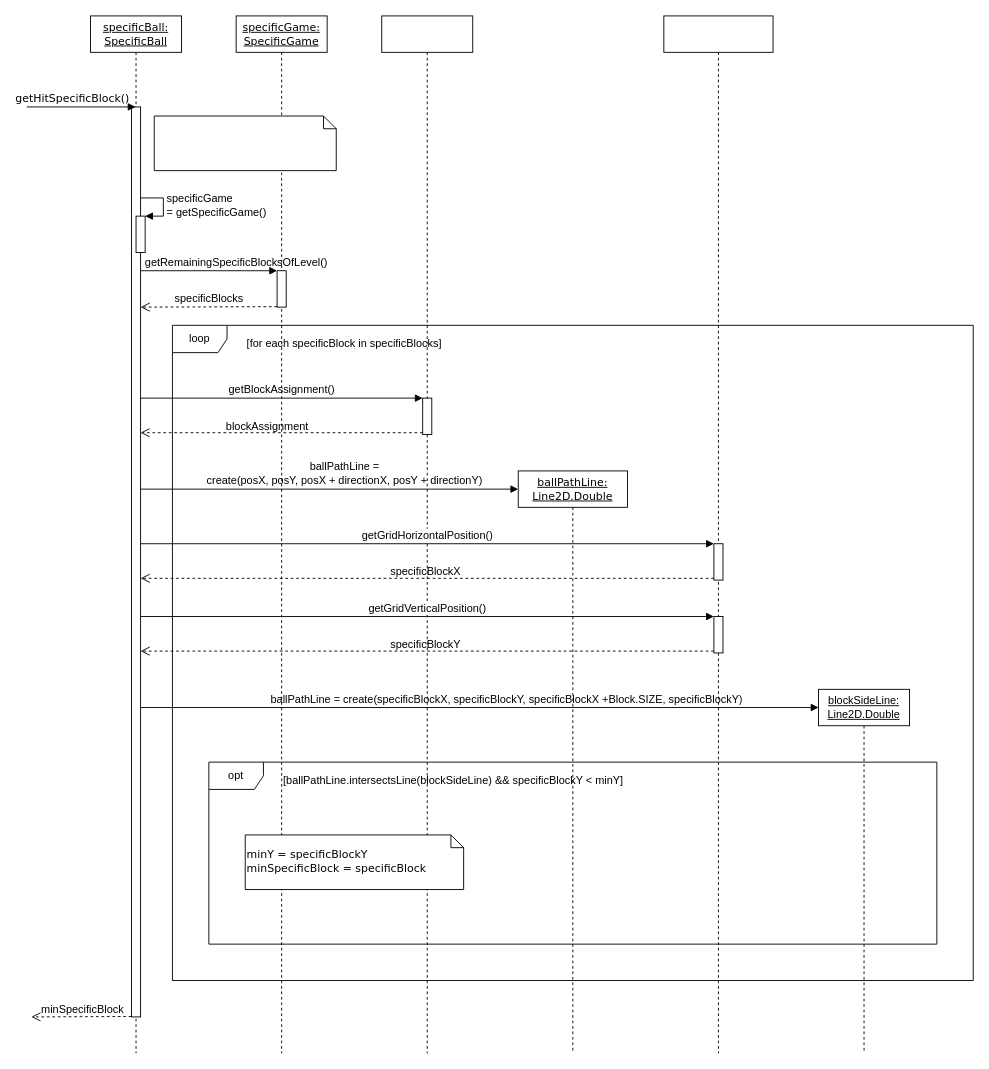
The diagram is 989 pixels wide and 1069 high, and some of its shapes have lost their labels. The box of each missing label's shape, as (x1, y1, x2, y2) in pixels:
blockAssignment: BlockAssignment: (663, 15, 773, 1053)
minY = Integer.MAX_VALUE minSpecificBall = null: (153, 115, 336, 171)
specificBlock: SpecificBlock: (381, 15, 473, 1053)
